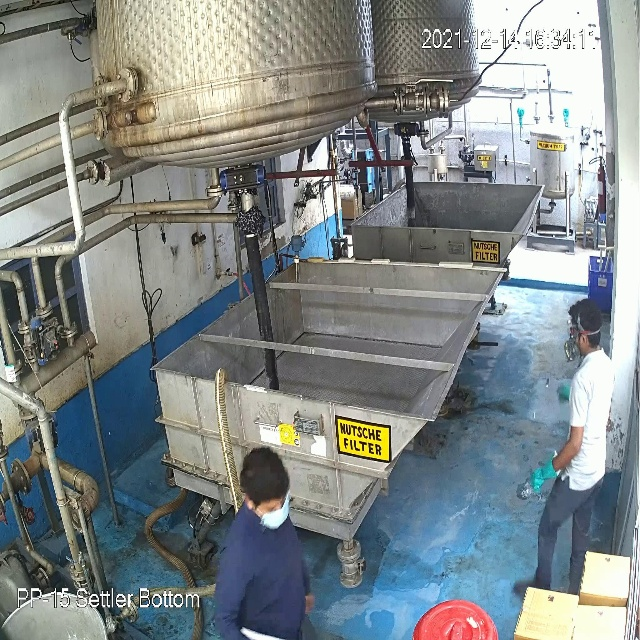Mascara: (563, 335, 590, 366)
Sin_gafas: (246, 493, 296, 517)
